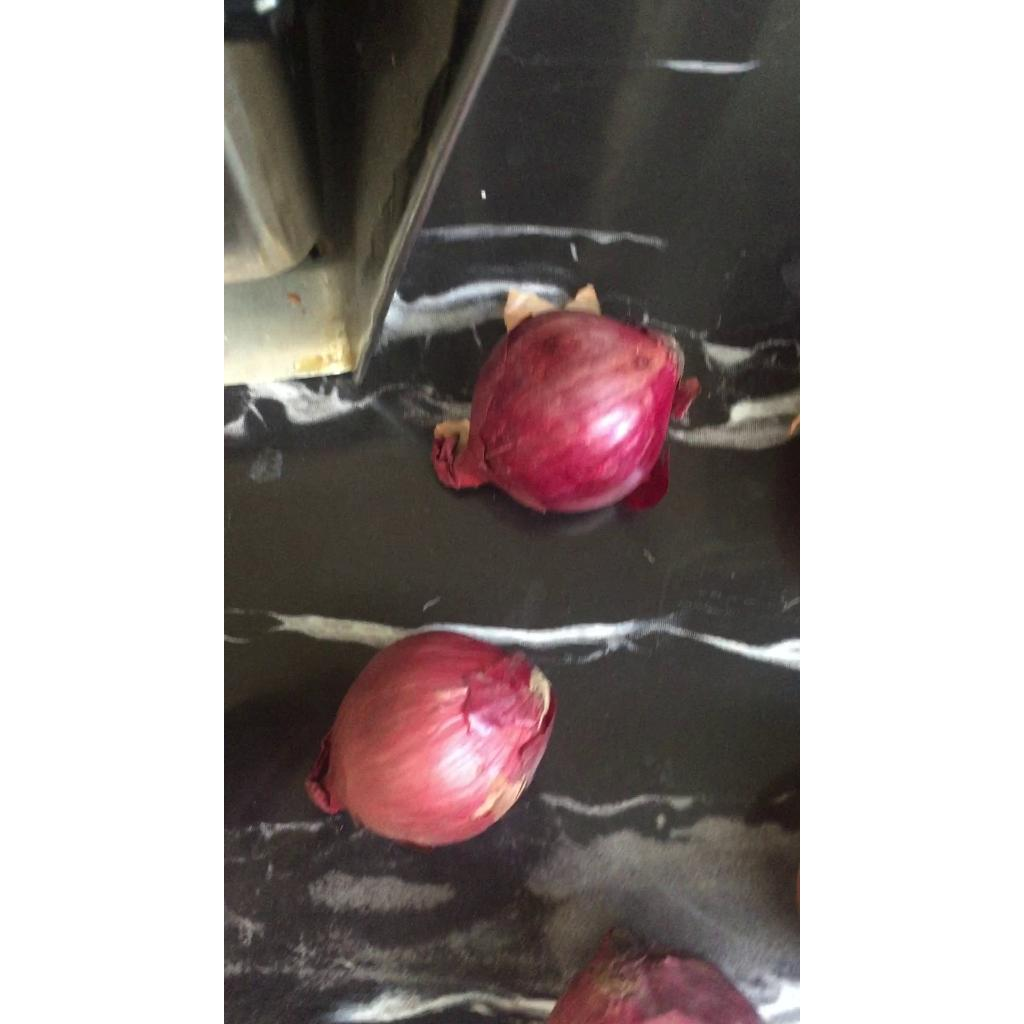Onion: (308, 632, 556, 848), (465, 310, 679, 513), (546, 931, 760, 1024)
